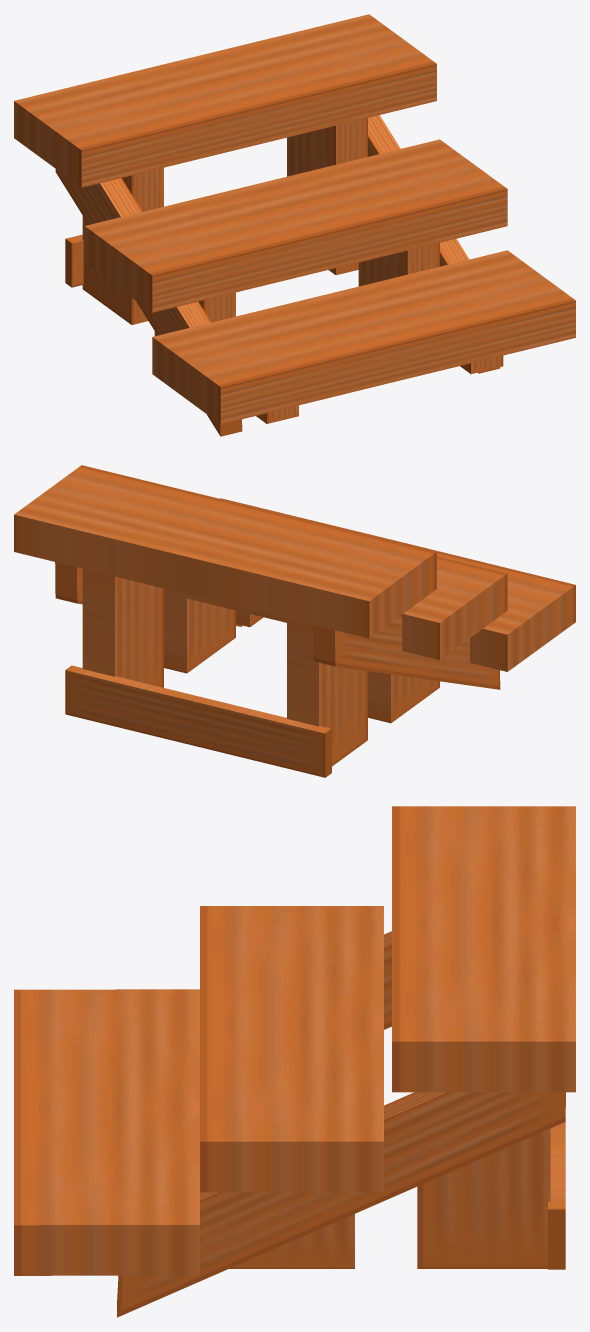
Rendered from GumWoodStepsHand.fbx.
3 renders of one model, top to bottom at view 1: azimuth 30°, elevation 25°; view 2: azimuth 150°, elevation 25°; view 3: azimuth 270°, elevation 25°, orthographic. The views are drawn at different scales.
Parts seen in each view (by area): view 1: AllSideTiles; view 2: AllSideTiles; view 3: AllSideTiles.
Part boxes in pixels (bbox=[...]): AllSideTiles: bbox=[14, 14, 575, 436]; AllSideTiles: bbox=[14, 465, 575, 777]; AllSideTiles: bbox=[14, 806, 575, 1317].
Bounding box in the file's own units: 1 × 0.5957 × 1.01.
